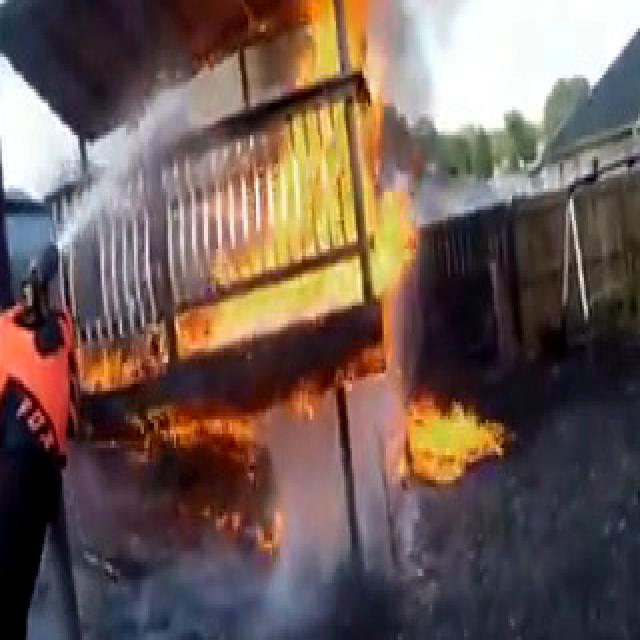fire: (406, 381, 492, 491), (286, 0, 338, 75)
smoke: (274, 432, 337, 578)
